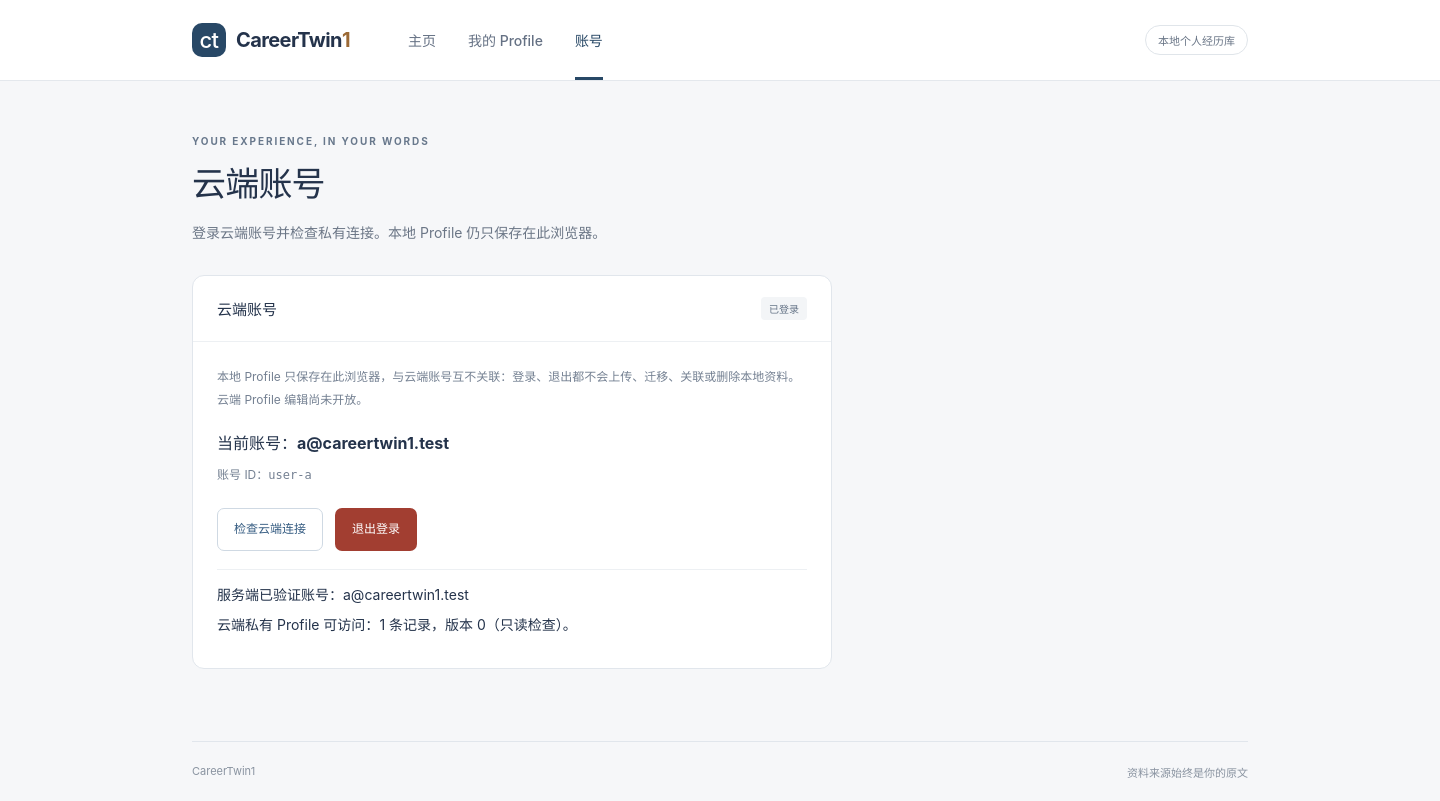
Scenario: M2.1 account page › sign-out clears cloud results, and a response arriving after sign-out is discarded
The image size is (1440, 801).
Click the button "检查云端连接" at [270, 530], box [217,508,323,551]
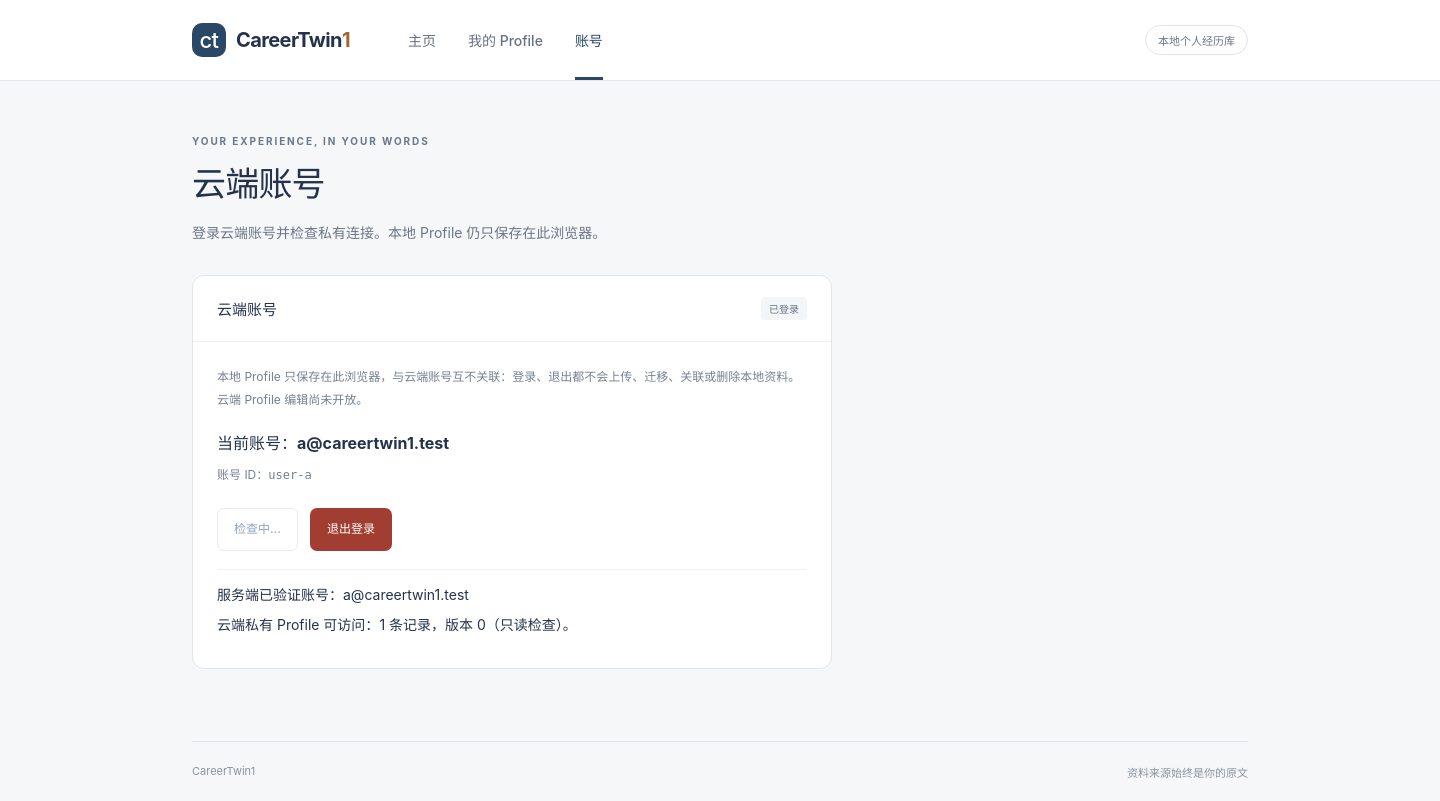
Click the button "退出登录" at [351, 530], box [310,508,392,551]
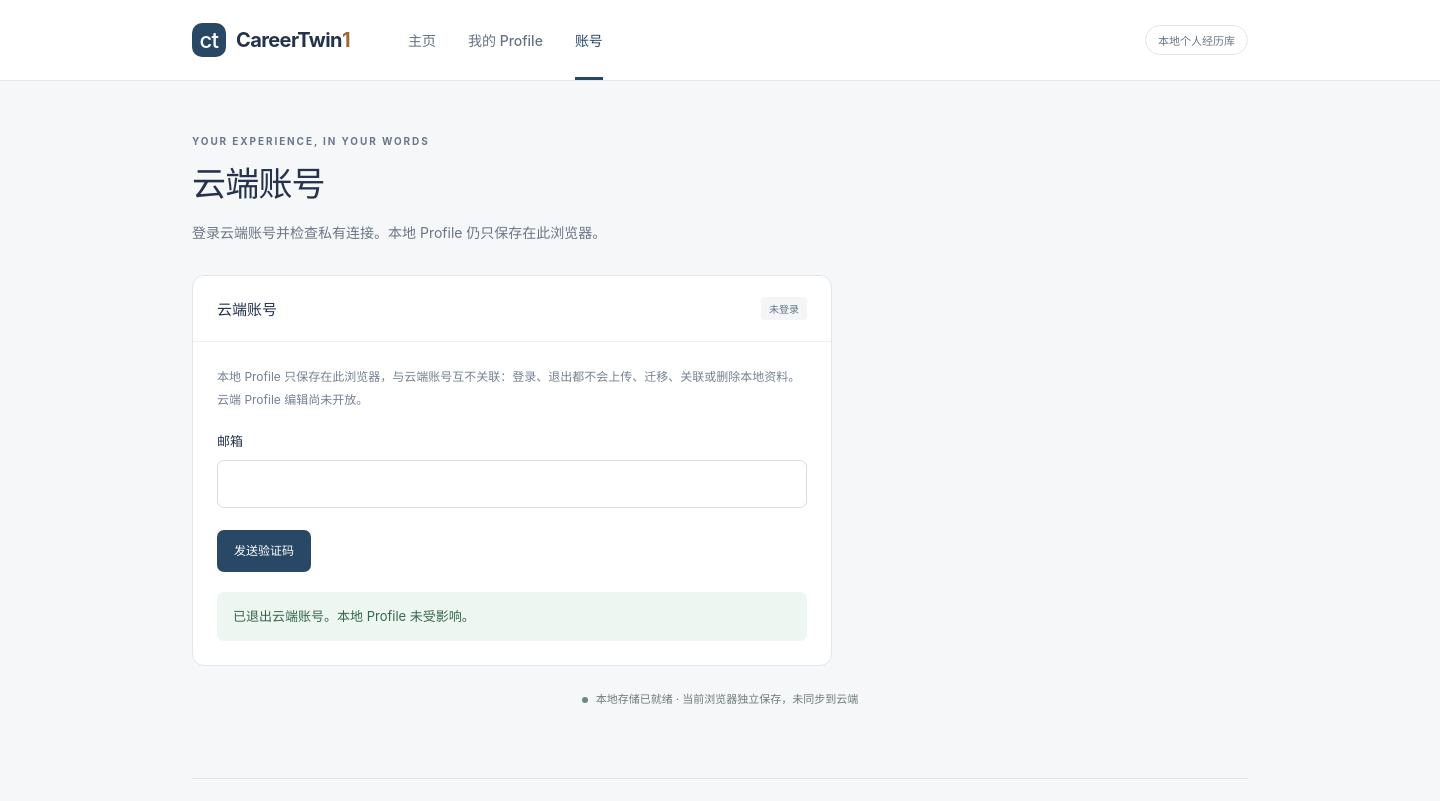
Result: the text "云端私有 Profile 可访问" is gone
Result: the text "a@careertwin1.test" is gone
Result: the text "发送验证码" is shown at [217,530,311,572]
